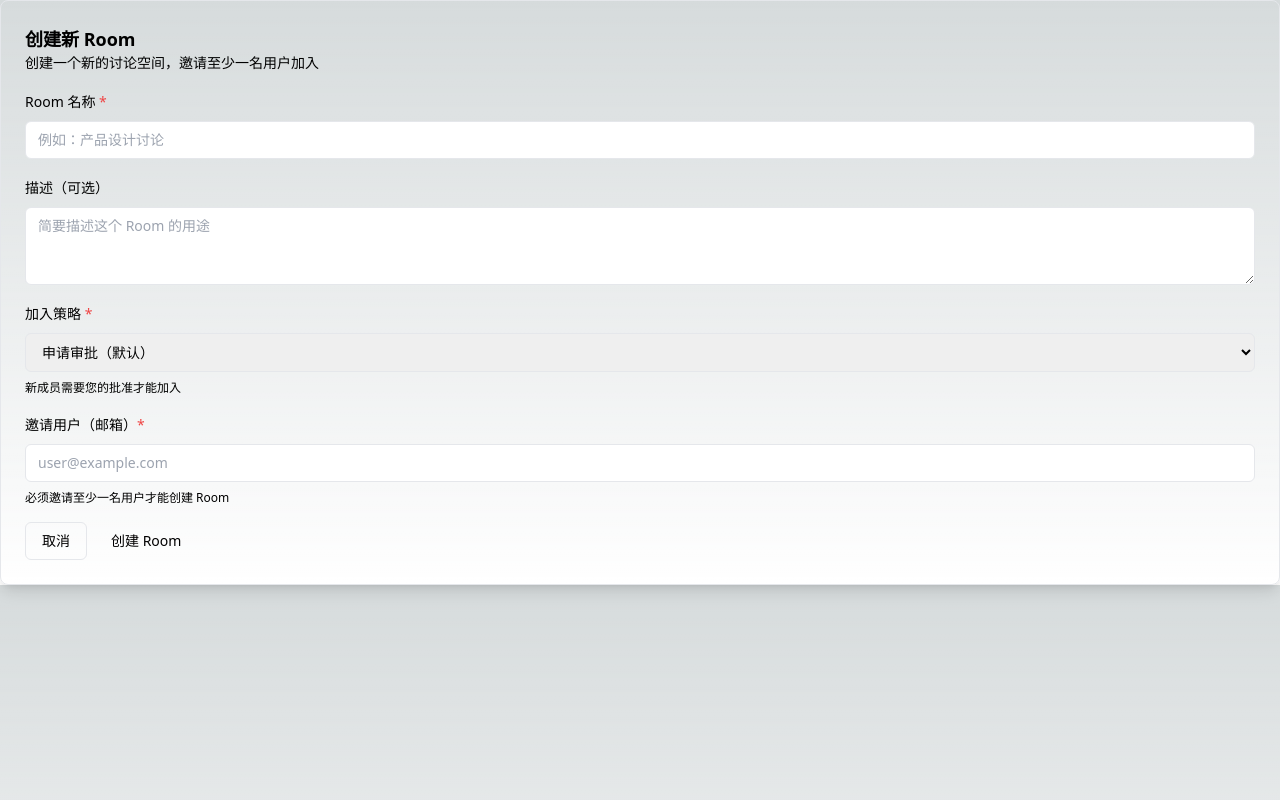
Test: Room Creation Integration › Form validation (需求 3.1, 3.2, 3.3) › should show error when room name is empty
Click the button "创建 Room" at (146, 541), box 95,522 -> 197,560
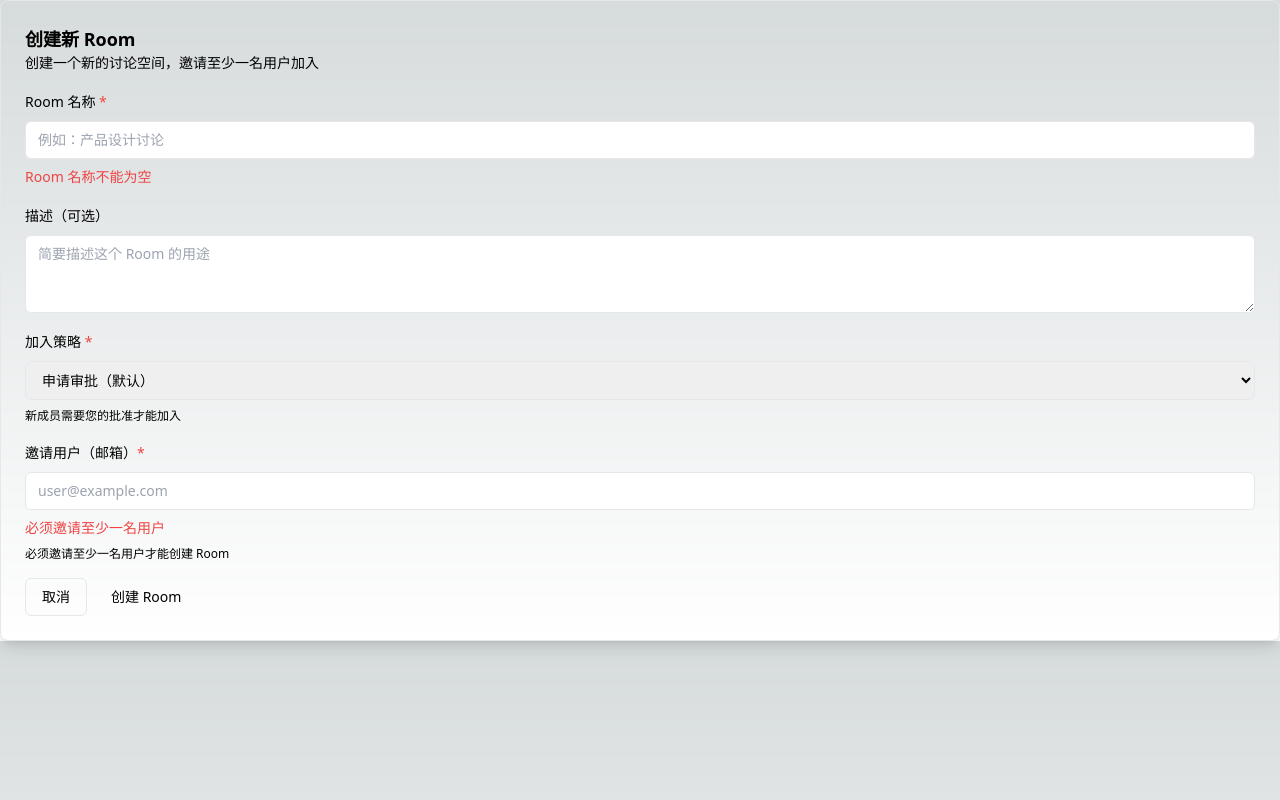
Expected: the text "Room 名称不能为空" is shown, 25,167 -> 151,186
